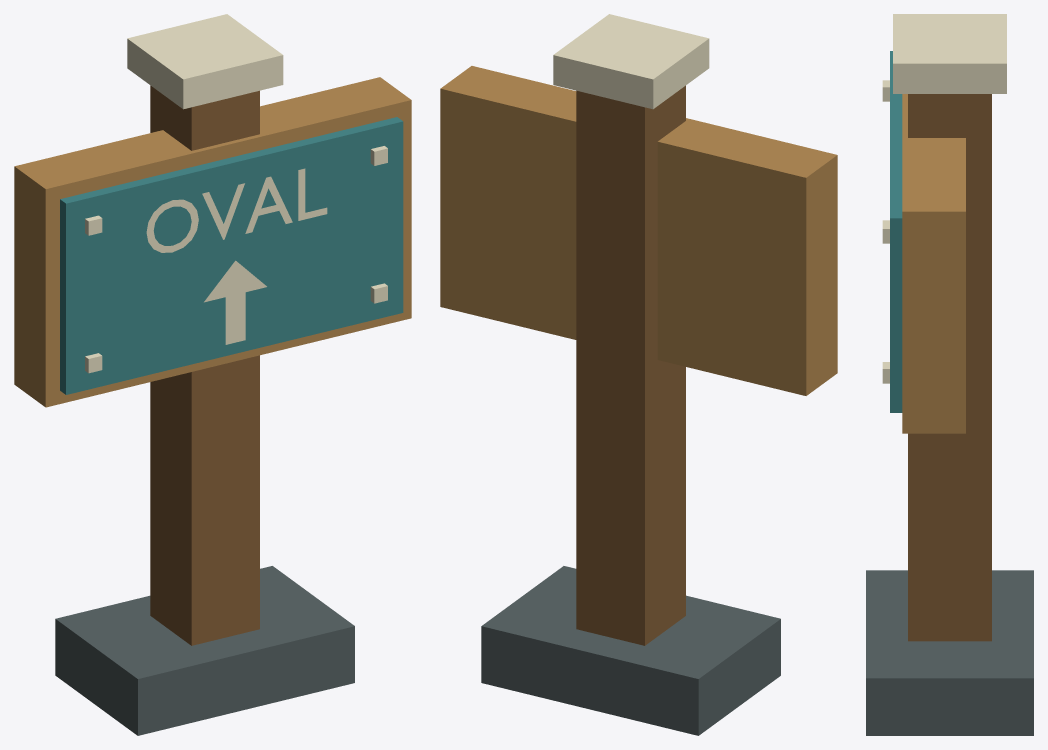
File: w10a-oval-waymarker.glb
3 views of the same model, side by side, from view 1: azimuth 30°, elevation 25°; view 2: azimuth 150°, elevation 25°; view 3: azimuth 270°, elevation 25° (orthographic).
Visible parts, largest first — view 1: Waymarker · enamel face, Waymarker · cedar upright, Waymarker · stone shoe, Waymarker · border, Waymarker · white cap, Waymarker · OVAL, Waymarker · arrow; view 2: Waymarker · border, Waymarker · cedar upright, Waymarker · stone shoe, Waymarker · white cap; view 3: Waymarker · cedar upright, Waymarker · stone shoe, Waymarker · border, Waymarker · white cap, Waymarker · enamel face.
Boxes of the visible parts, x1,y1,x2,y2 form: Waymarker · enamel face: (60,117,403,394); Waymarker · cedar upright: (150,85,259,645); Waymarker · stone shoe: (55,566,354,735); Waymarker · border: (14,77,411,407); Waymarker · white cap: (127,14,283,109); Waymarker · OVAL: (146,168,327,252); Waymarker · arrow: (204,260,266,344); Waymarker · border: (440,66,837,395); Waymarker · cedar upright: (576,85,685,645); Waymarker · stone shoe: (481,566,780,735); Waymarker · white cap: (553,14,709,109); Waymarker · cedar upright: (908,94,991,641); Waymarker · stone shoe: (866,570,1033,735); Waymarker · border: (902,94,965,433); Waymarker · white cap: (893,14,1006,93); Waymarker · enamel face: (890,51,902,412).
Size of the model in its own units: 1.28 by 2.12 by 0.5.
